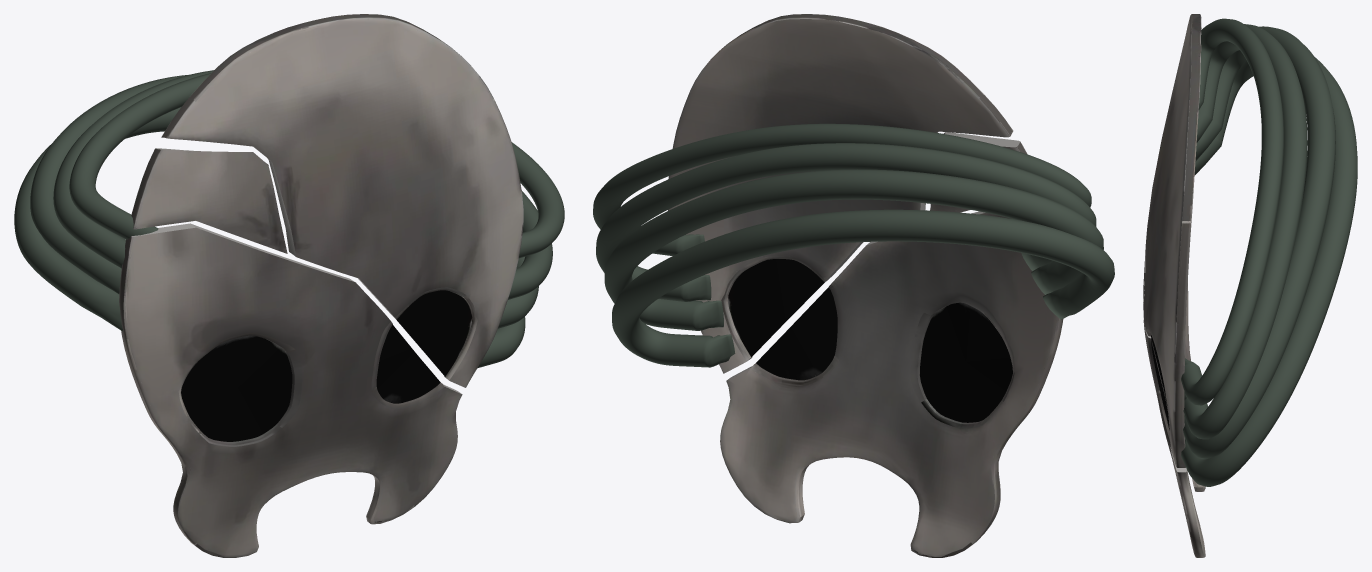
File: fracturn-mask.glb
3 renders of one model, left to right at view 1: azimuth 30°, elevation 25°; view 2: azimuth 150°, elevation 25°; view 3: azimuth 270°, elevation 25°, orthographic. The views are drawn at different scales.
Visible parts, largest first — view 1: masque, Lanière, Lanière.001, Lanière.003, Lanière.002; view 2: masque, Lanière.003, Lanière.001, Lanière.002, Lanière; view 3: masque, Lanière.001, Lanière.003, Lanière.002, Lanière.
Boxes of the visible parts, x1,y1,x2,y2 form: masque: [119, 14, 523, 557]; Lanière: [69, 73, 564, 258]; Lanière.001: [30, 75, 538, 328]; Lanière.003: [14, 107, 525, 368]; Lanière.002: [53, 70, 552, 299]; masque: [668, 14, 1063, 557]; Lanière.003: [612, 209, 1114, 367]; Lanière.001: [604, 169, 1103, 330]; Lanière.002: [596, 143, 1096, 301]; Lanière: [593, 123, 1091, 255]; masque: [1143, 14, 1205, 557]; Lanière.001: [1183, 26, 1335, 458]; Lanière.003: [1181, 57, 1357, 486]; Lanière.002: [1183, 24, 1307, 439]; Lanière: [1181, 18, 1283, 405].
Bounding box in the file's own units: 3.08 × 2.87 × 1.16.
Materials: 2 (1 with a texture image).
